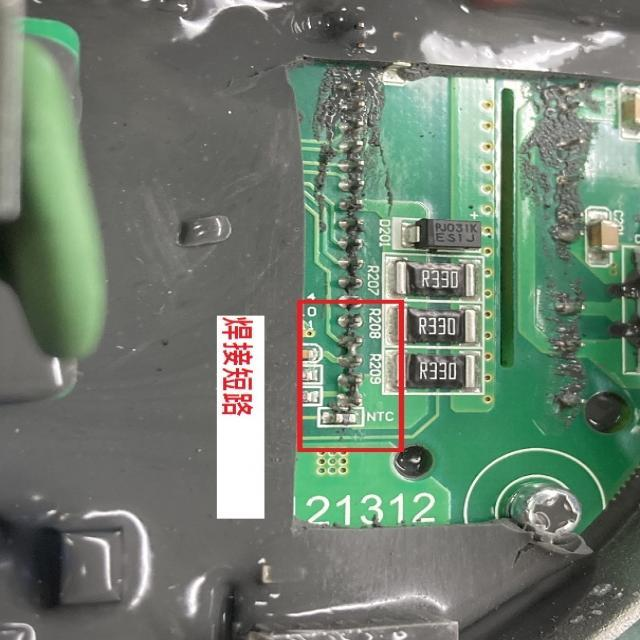Short_circuit: (340, 331, 362, 373), (336, 373, 362, 407)
